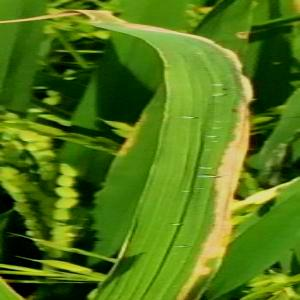2 BacterialBlight: (147, 48, 246, 281)
